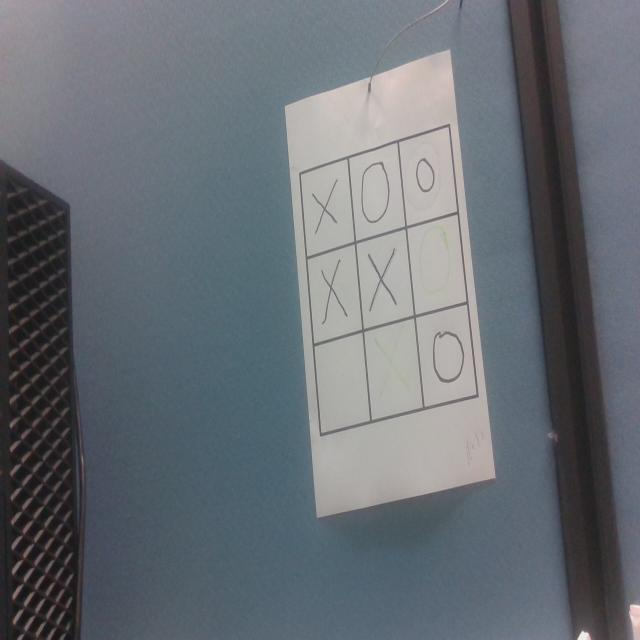null: (314, 332, 368, 434)
o: (419, 223, 453, 297), (360, 160, 391, 226), (432, 329, 465, 384), (414, 156, 436, 194)
table: (299, 118, 480, 436)
x: (376, 334, 411, 396), (368, 248, 398, 311), (321, 263, 348, 326), (311, 175, 338, 236)
